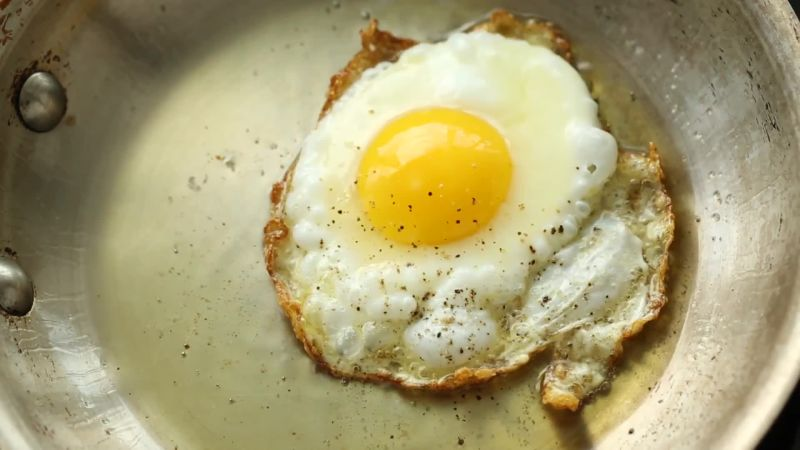fried egg: (308, 46, 595, 378)
